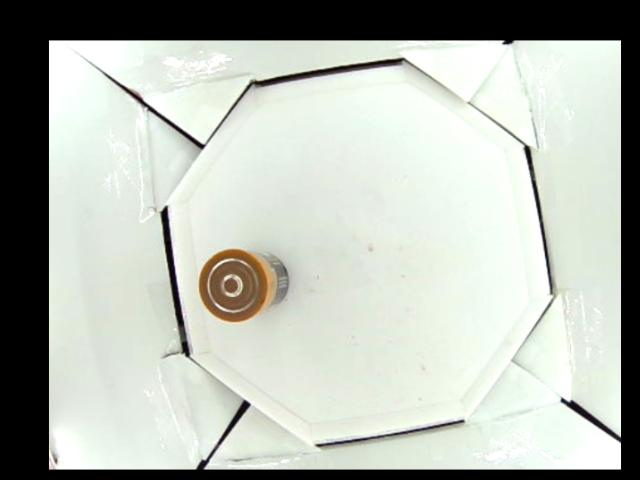Battery: (197, 246, 289, 322)
